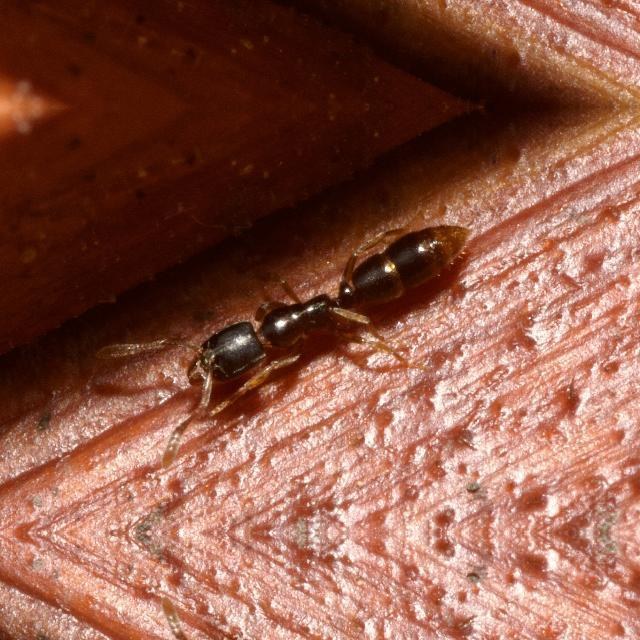Ponera: (178, 211, 462, 393)
